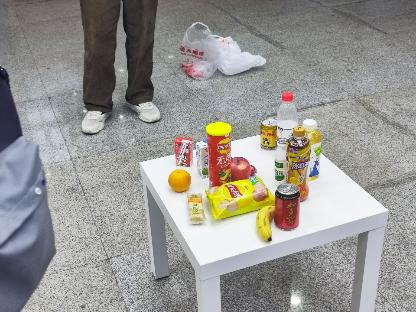Can: (274, 182, 300, 234), (260, 115, 280, 150)
Others: (206, 123, 232, 183), (174, 136, 193, 166), (196, 140, 209, 178)
Plastic Bottle: (290, 125, 308, 200), (276, 139, 288, 181)
